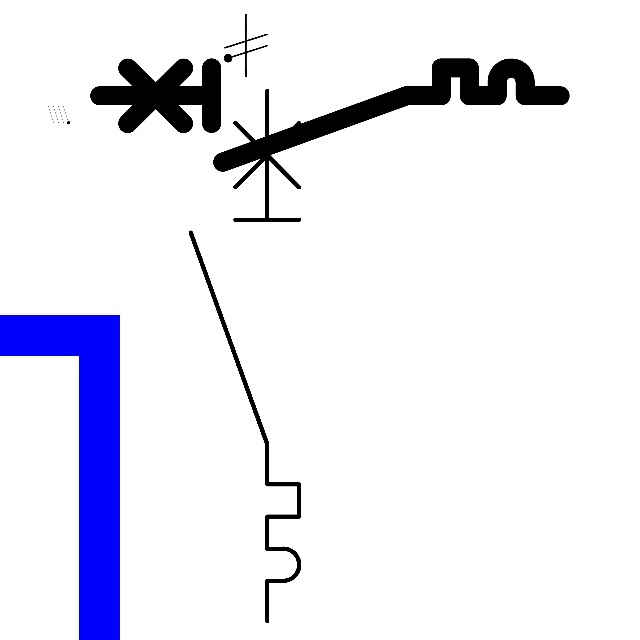interruptor_termomagnetico: (177, 77, 313, 635), (87, 56, 571, 174)
